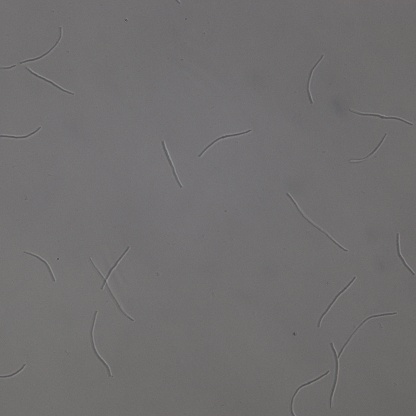Sensitive: (329, 312, 396, 409), (89, 244, 134, 322), (287, 193, 346, 250), (287, 370, 329, 416), (318, 277, 355, 326), (88, 311, 111, 378), (21, 28, 63, 64), (25, 67, 72, 95), (199, 130, 250, 154), (352, 133, 386, 162), (348, 110, 411, 125), (25, 251, 56, 281), (395, 232, 415, 278), (163, 142, 182, 189), (305, 56, 324, 103), (1, 124, 41, 142), (1, 363, 25, 381)
